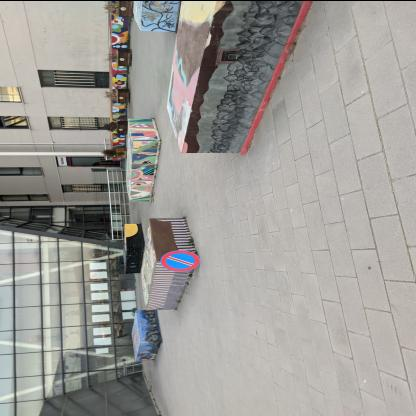No Waiting: (162, 250, 200, 272)
